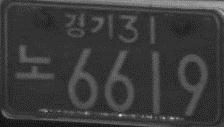1: (141, 51, 173, 114), (142, 14, 161, 46)
3: (117, 13, 139, 43)
6: (103, 48, 135, 113), (66, 47, 99, 109)
9: (176, 53, 209, 116)
경기_O: (65, 13, 114, 39)
노: (15, 44, 56, 81)
